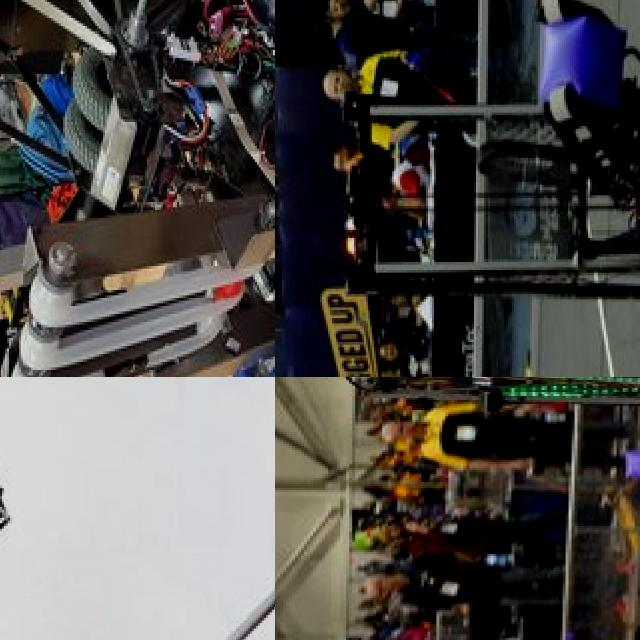FRC-Robots: (308, 0, 640, 377), (0, 0, 275, 377), (0, 377, 275, 640), (351, 377, 640, 503)
